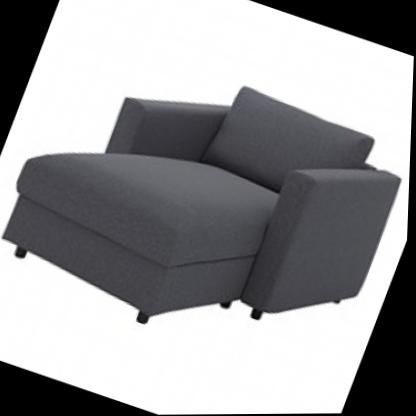Sofa: (0, 8, 416, 402)
